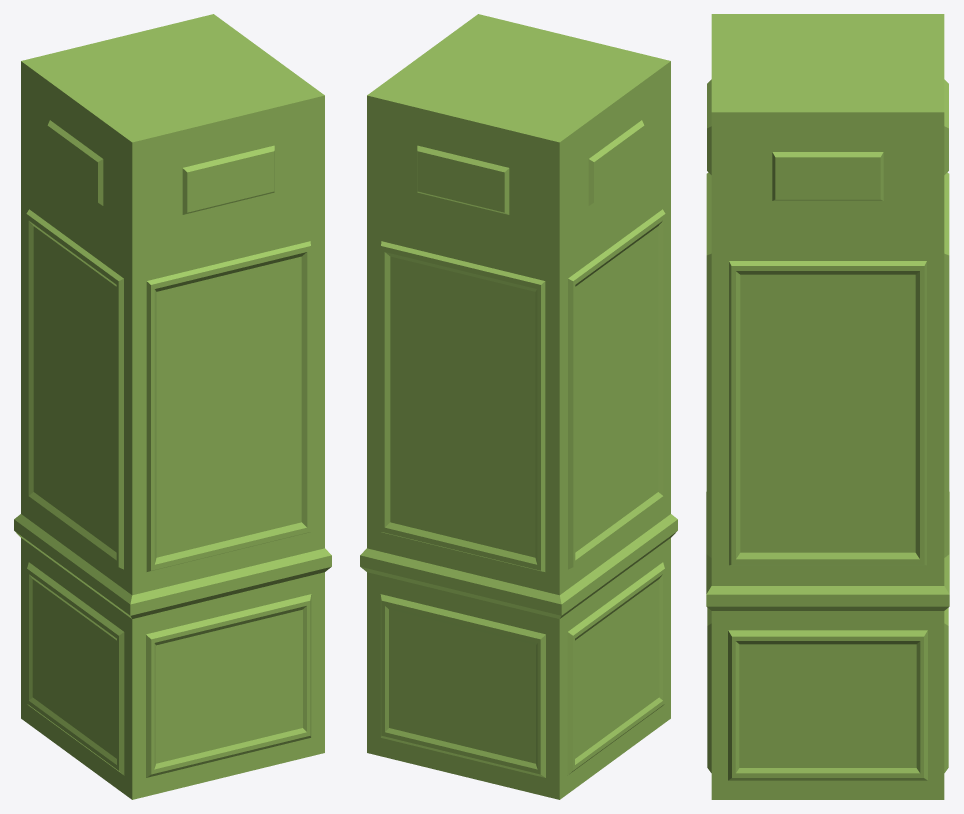
The model's file is Pillar01.fbx.
The picture shows the model from 3 angles, left to right: view 1: azimuth 30°, elevation 25°; view 2: azimuth 150°, elevation 25°; view 3: azimuth 270°, elevation 25°; orthographic projection. The views are drawn at different scales.
Parts seen in each view (by area): view 1: Pillar01; view 2: Pillar01; view 3: Pillar01.
Part boxes in pixels (x1,y1,x2,y2): Pillar01: (14, 14, 331, 799); Pillar01: (360, 14, 677, 799); Pillar01: (706, 14, 949, 799).
Bounding box in the file's own units: 1.28 × 4 × 1.28.
